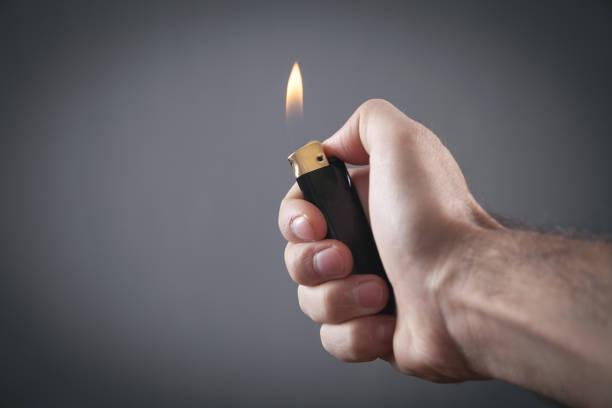Fire: (284, 57, 304, 147)
